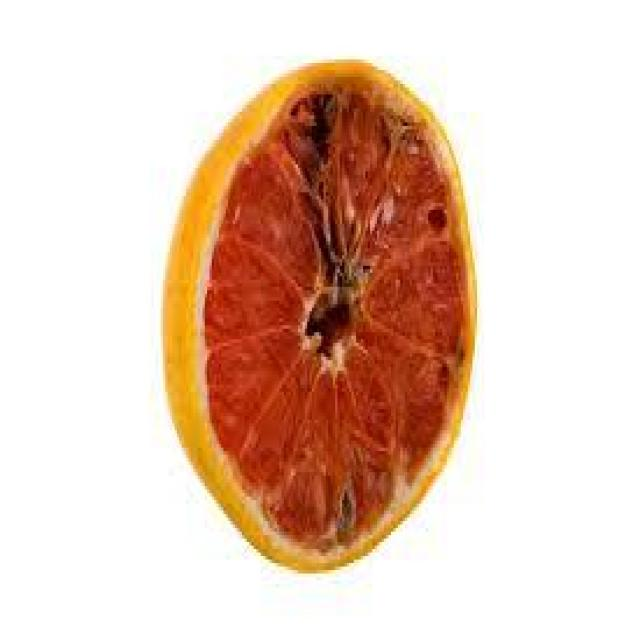organic: (158, 59, 482, 577)
